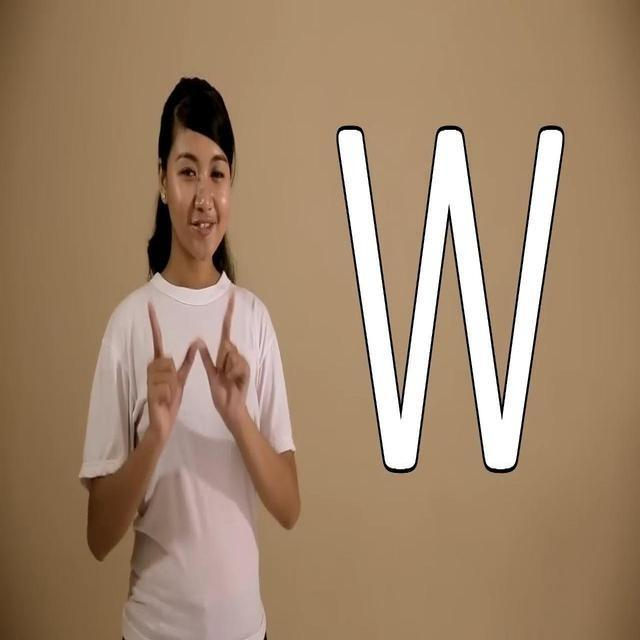W: (128, 288, 258, 424)
